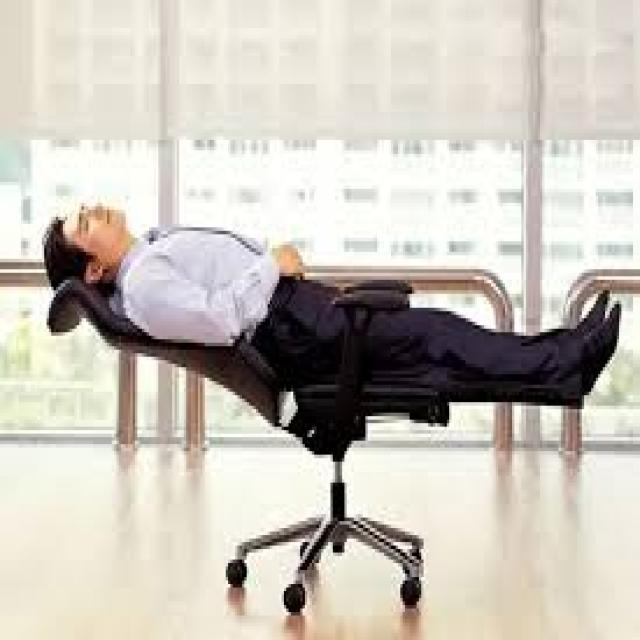chair: (18, 158, 493, 636)
